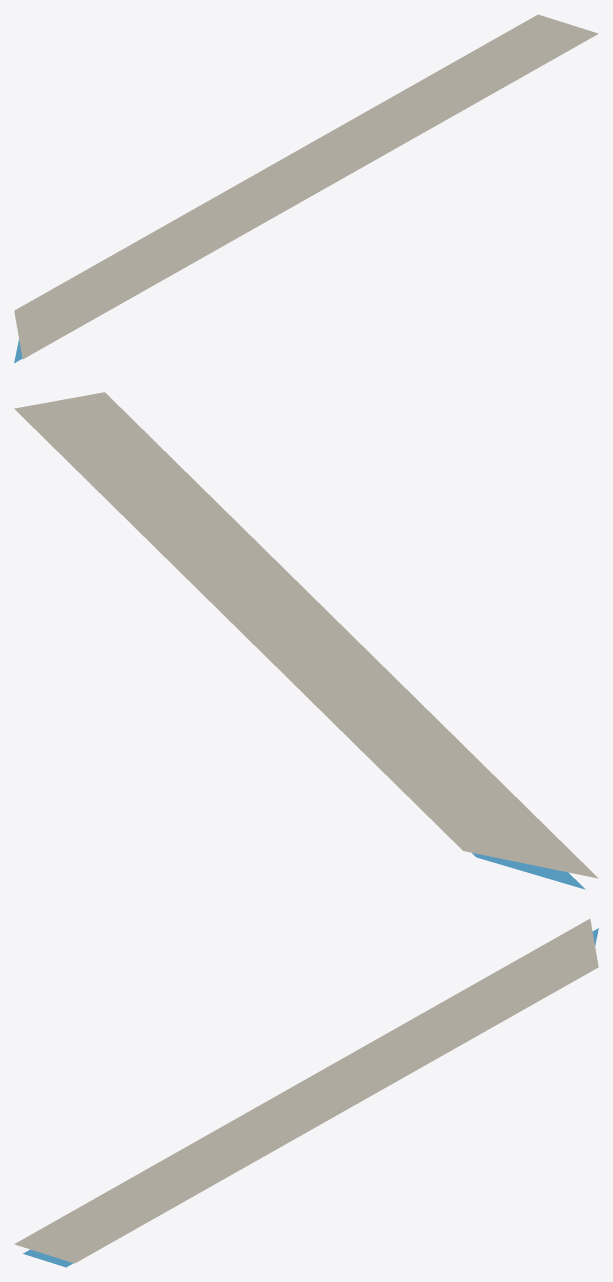
The picture shows the model from 3 angles, top to bottom: view 1: azimuth 90°, elevation 25°; view 2: azimuth 150°, elevation 25°; view 3: azimuth 270°, elevation 25°; orthographic projection. The views are drawn at different scales.
Parts seen in each view (by area): view 1: estructura_terreno; view 2: estructura_terreno, estructura_agua; view 3: estructura_terreno.
Boxes of the visible parts, left/top/right/bottom form: estructura_terreno: left=14, top=14, right=598, bottom=358; estructura_terreno: left=14, top=392, right=598, bottom=878; estructura_agua: left=472, top=853, right=585, bottom=889; estructura_terreno: left=14, top=919, right=598, bottom=1263.
Size of the model in its own units: 45.12 by 0.41 by 32.32.
